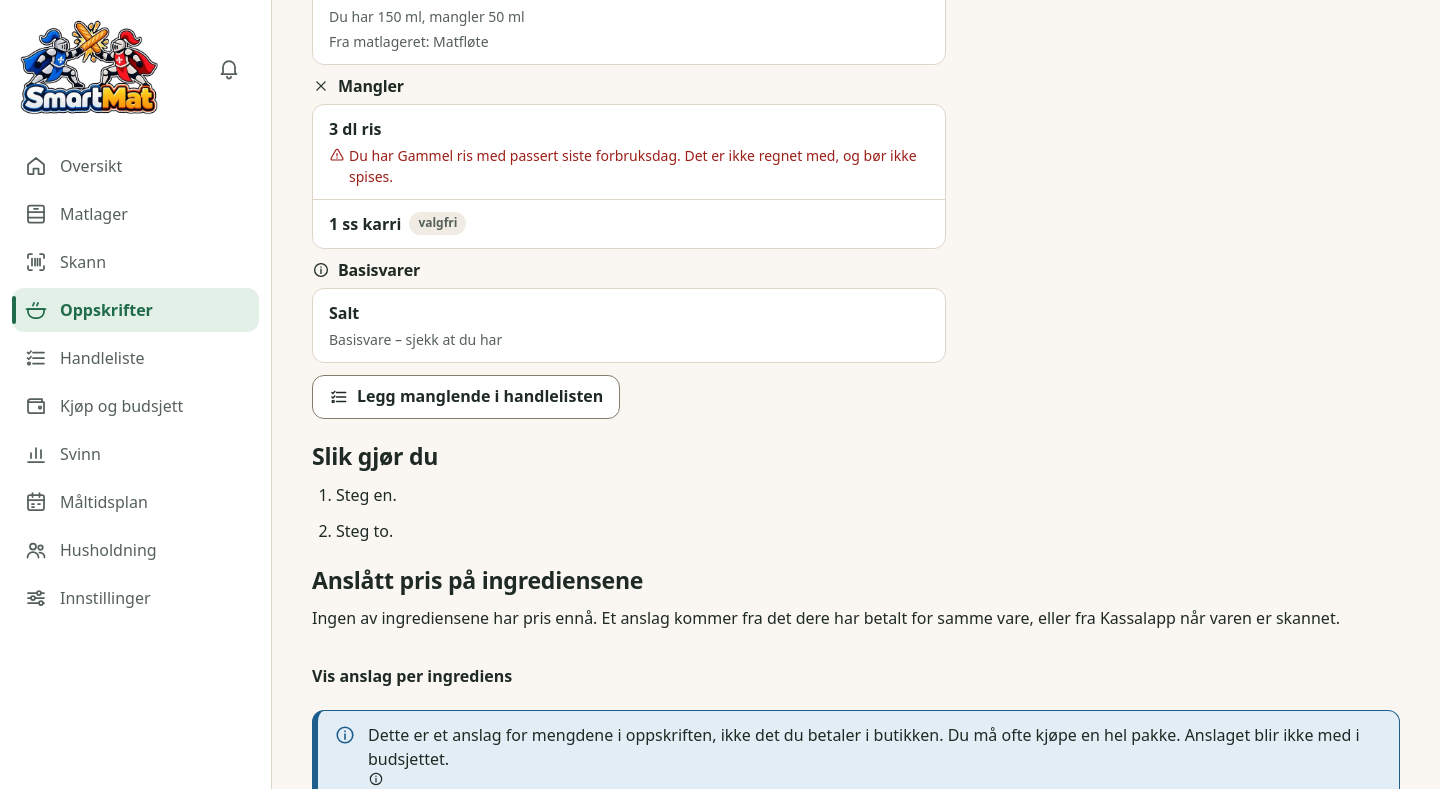
Test: FR-SHOP-002 add what is missing to the shopping list › ticks what is missing, leaves staples, optional and items already on the list unticked
The image size is (1440, 789).
(page scrolled)
Step 1. Click the button "Legg manglende i handlelisten" → (466, 397), box [312, 375, 620, 419]
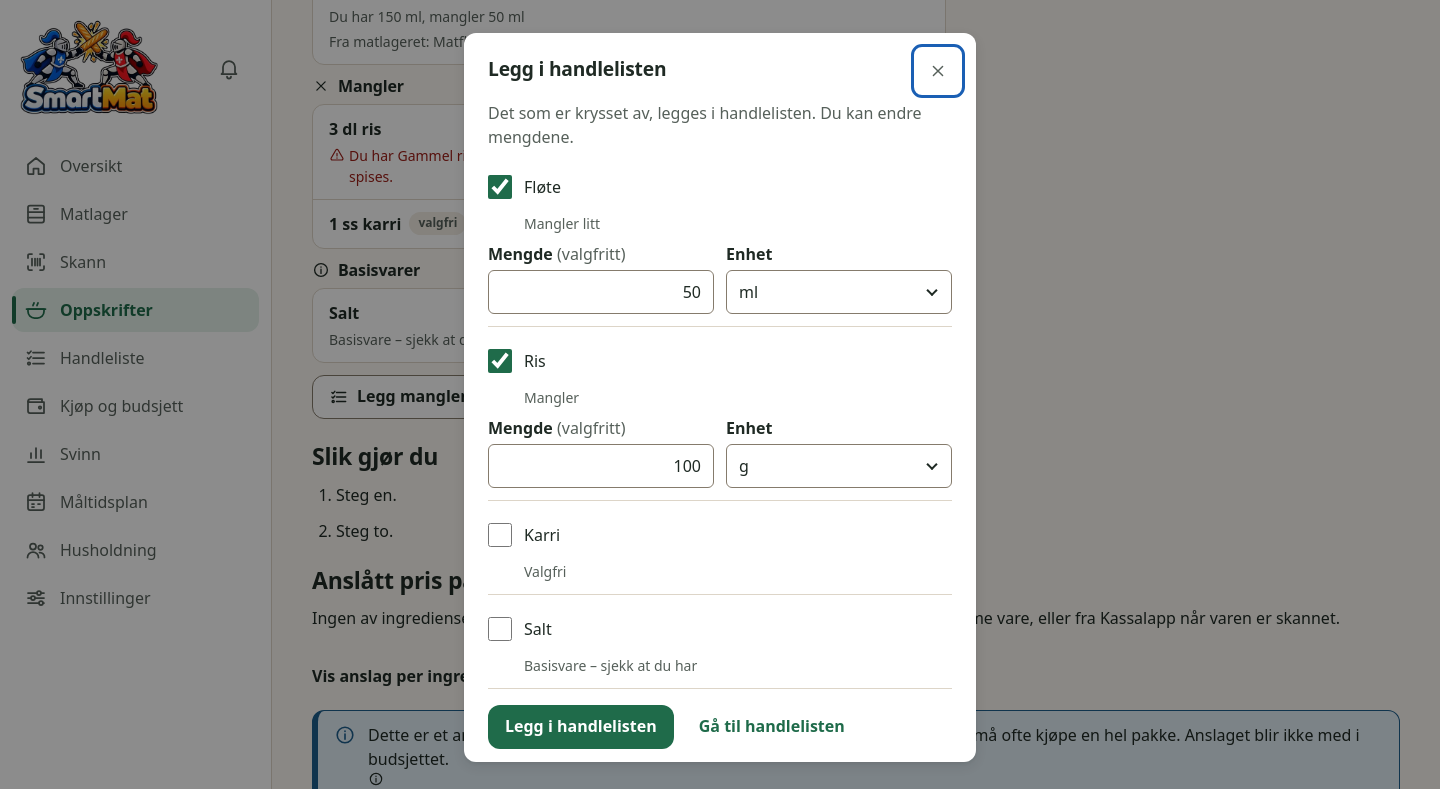
expect the number of checkboxes is 4: met, box [488, 174, 512, 198]; [488, 348, 512, 372]; [488, 522, 512, 546]; [488, 616, 512, 640]
expect the checkbox labelled "Fløte" is checked: met, box [488, 174, 512, 198]
expect the checkbox labelled "Ris" is checked: met, box [488, 348, 512, 372]
Step 2. Replace the text in the field labelled "Mengde (valgfritt)" below "Mangler litt" with "1" → (601, 292), box [488, 270, 714, 314]
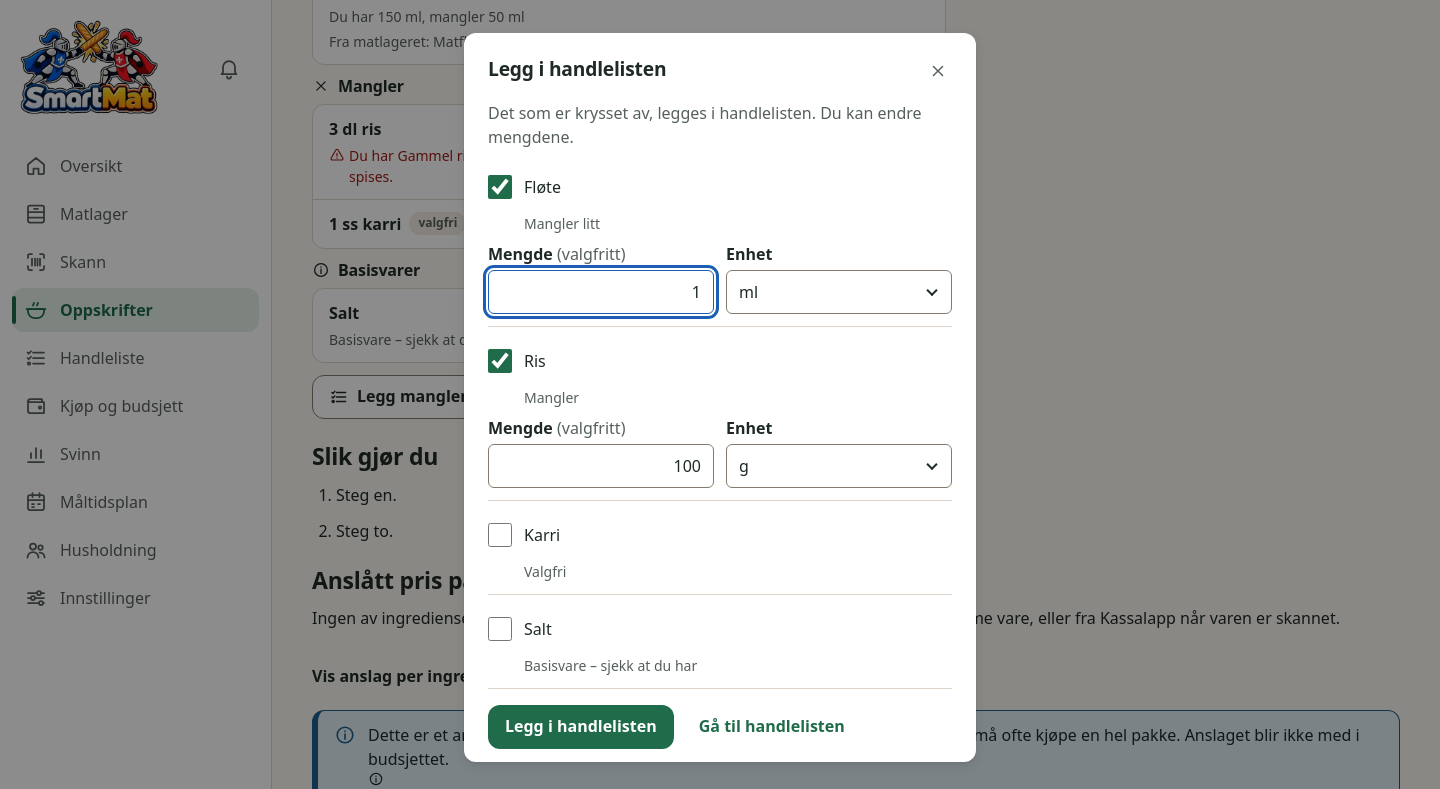
Step 3. Select "dl" in the dropdown labelled "Enhet" below "Mangler litt" → (839, 292), box [726, 270, 952, 314]
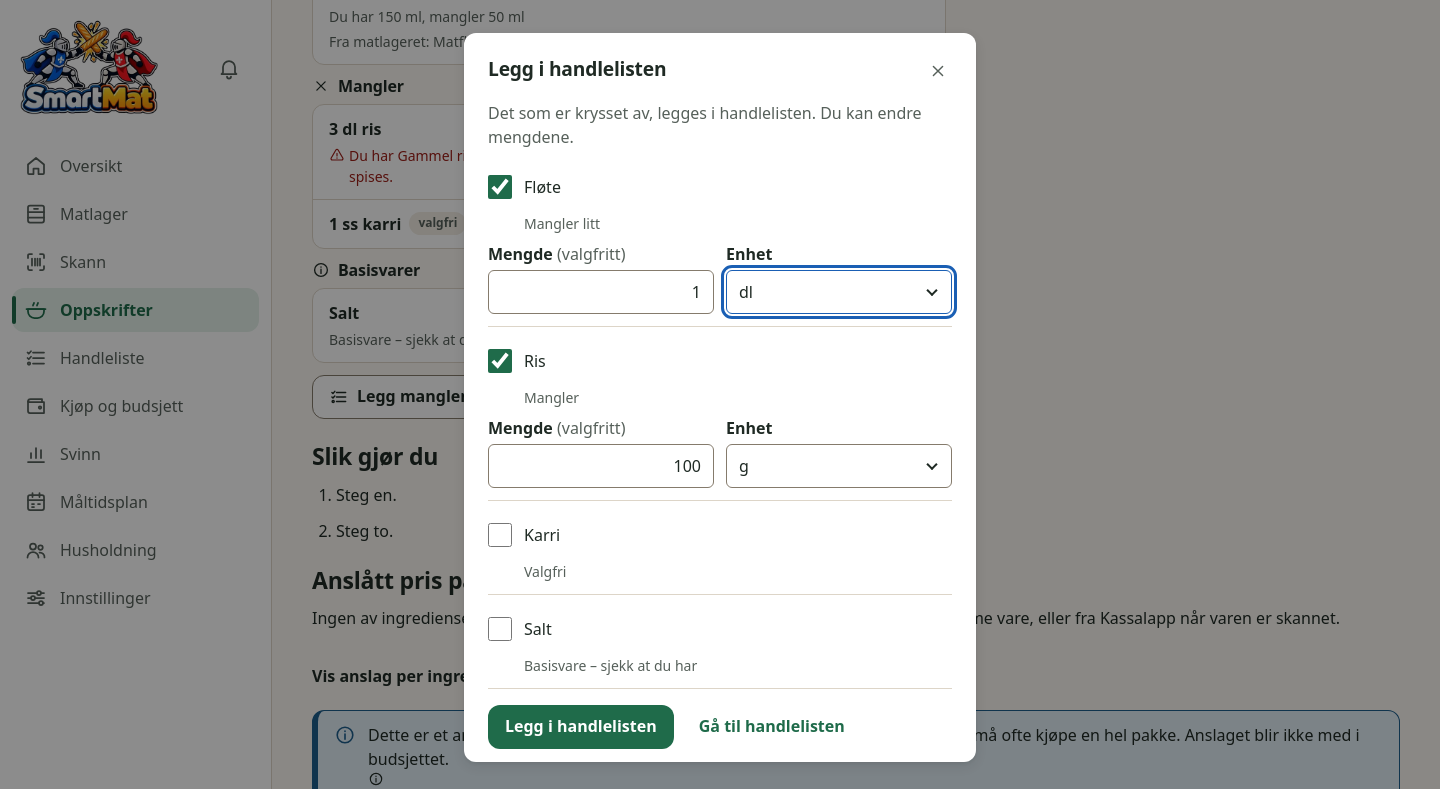
Step 4. Click the button "Legg i handlelisten" → (581, 726), box [488, 704, 674, 748]
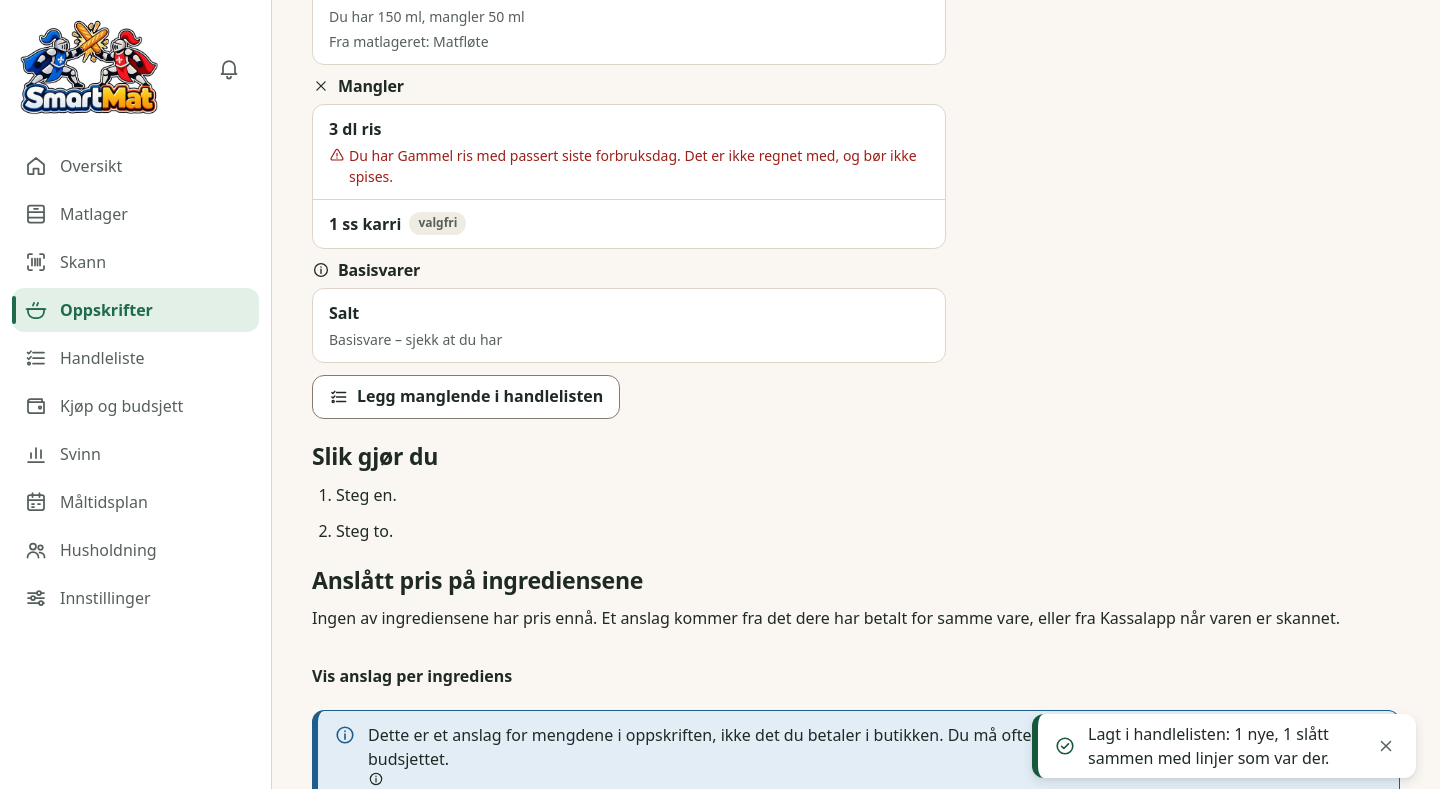
expect the text "Lagt i handlelisten: 1 nye, 1 slått sammen med linjer som var der." is shown: met, box [1088, 722, 1352, 770]
